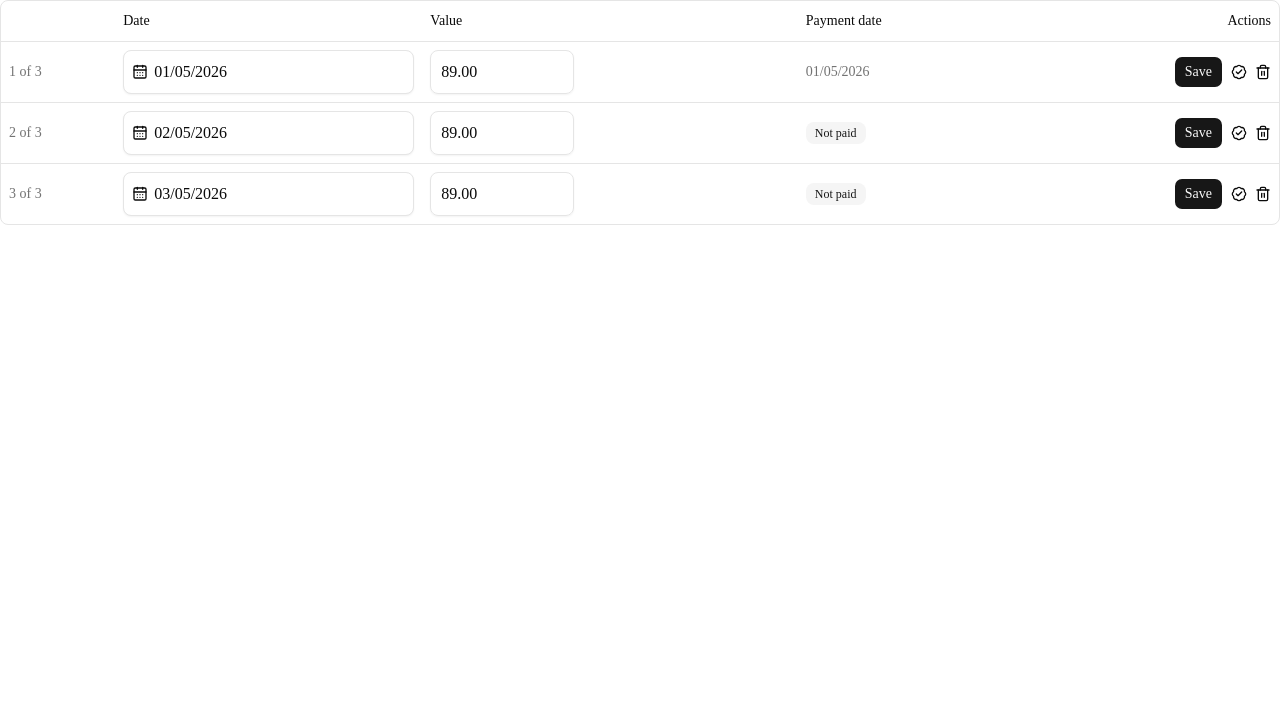
Scenario: InstallmentOccurrencesTable › flags a row dated before the one above it and blocks every save
Click the button named "Payment 2 date": coordinates (191, 132) [123,110,414,154]
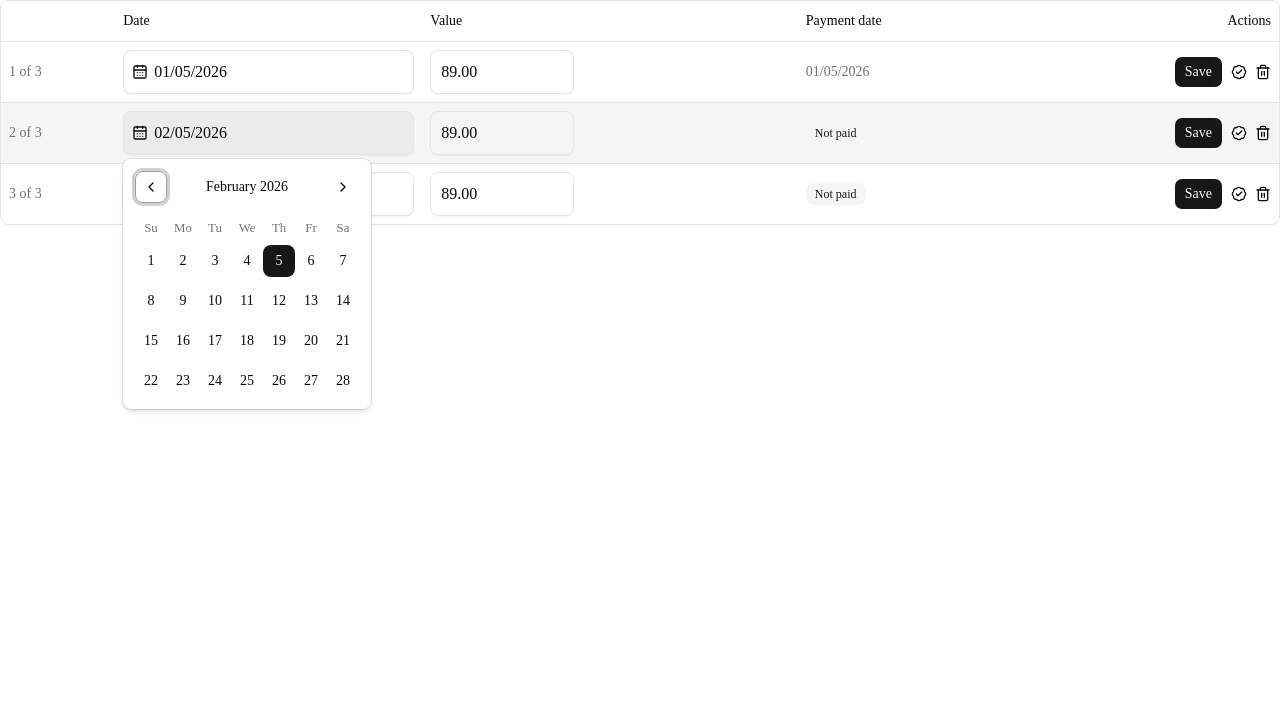
Click the button named "Go to the Previous Month": coordinates (151, 187) [135,171,167,203]
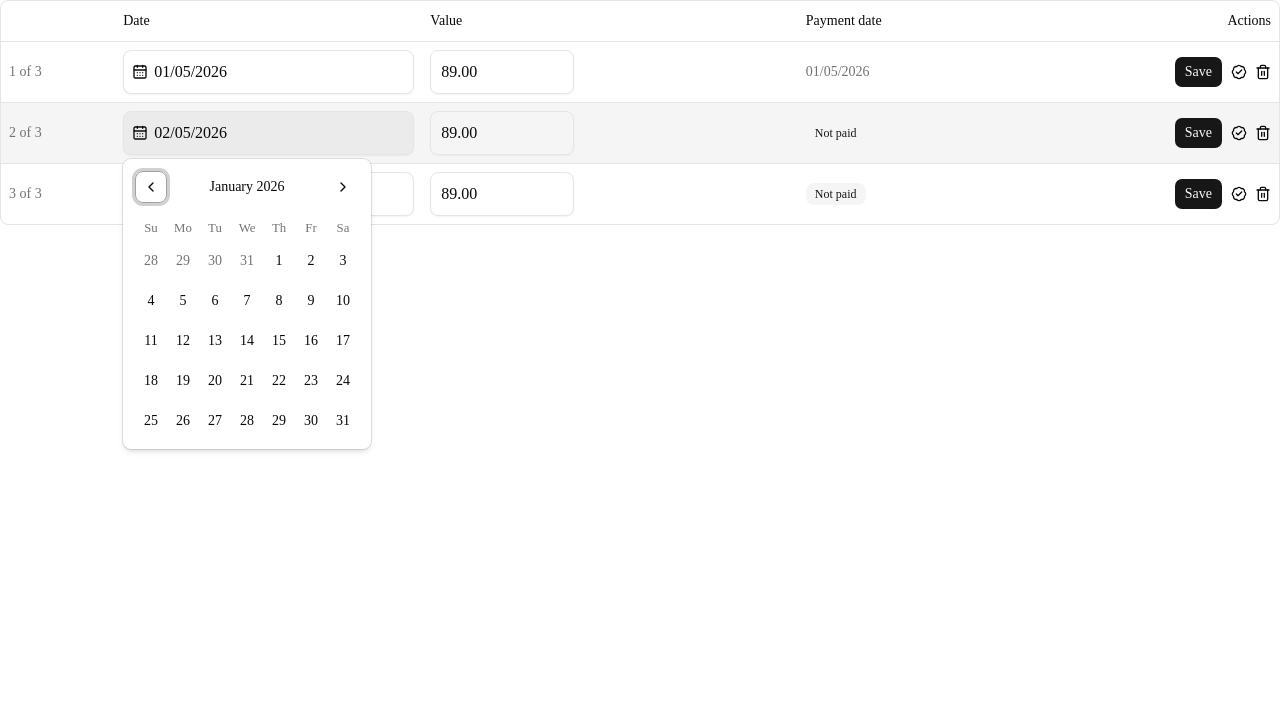
Click the button named "Go to the Previous Month": coordinates (151, 187) [135,171,167,203]
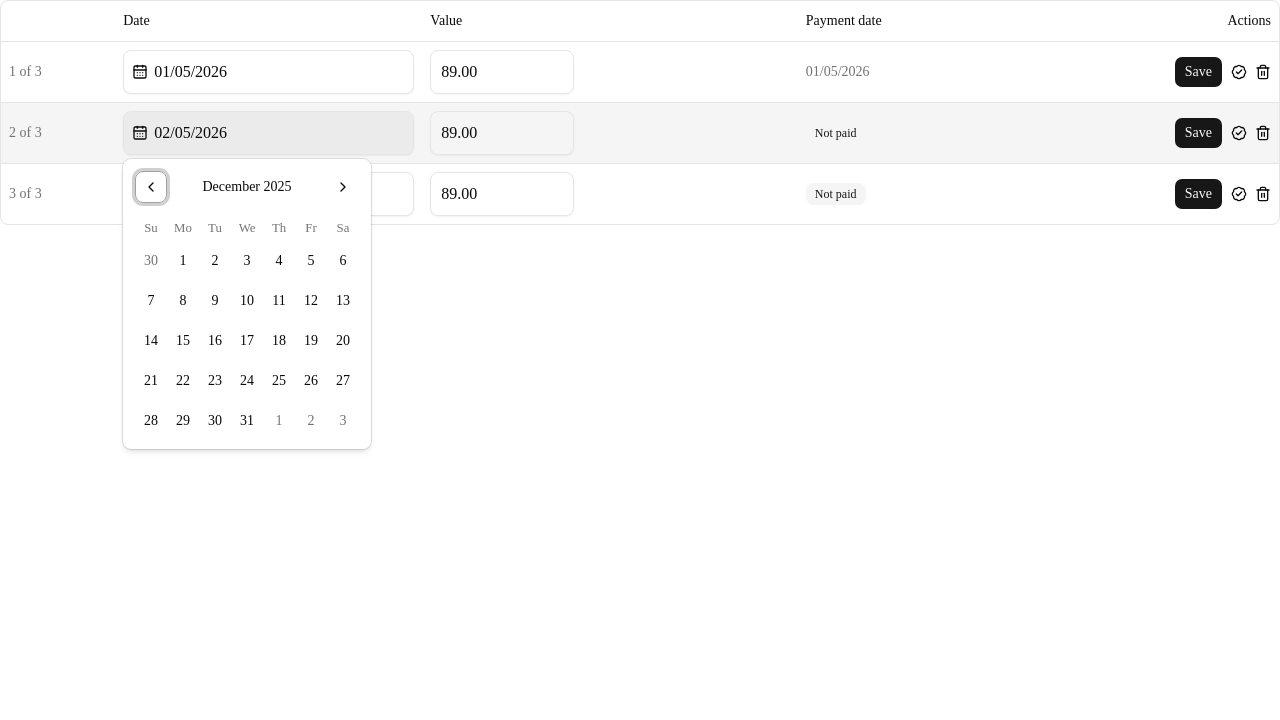
Click the 1st button "1": coordinates (183, 261) [167,245,199,277]
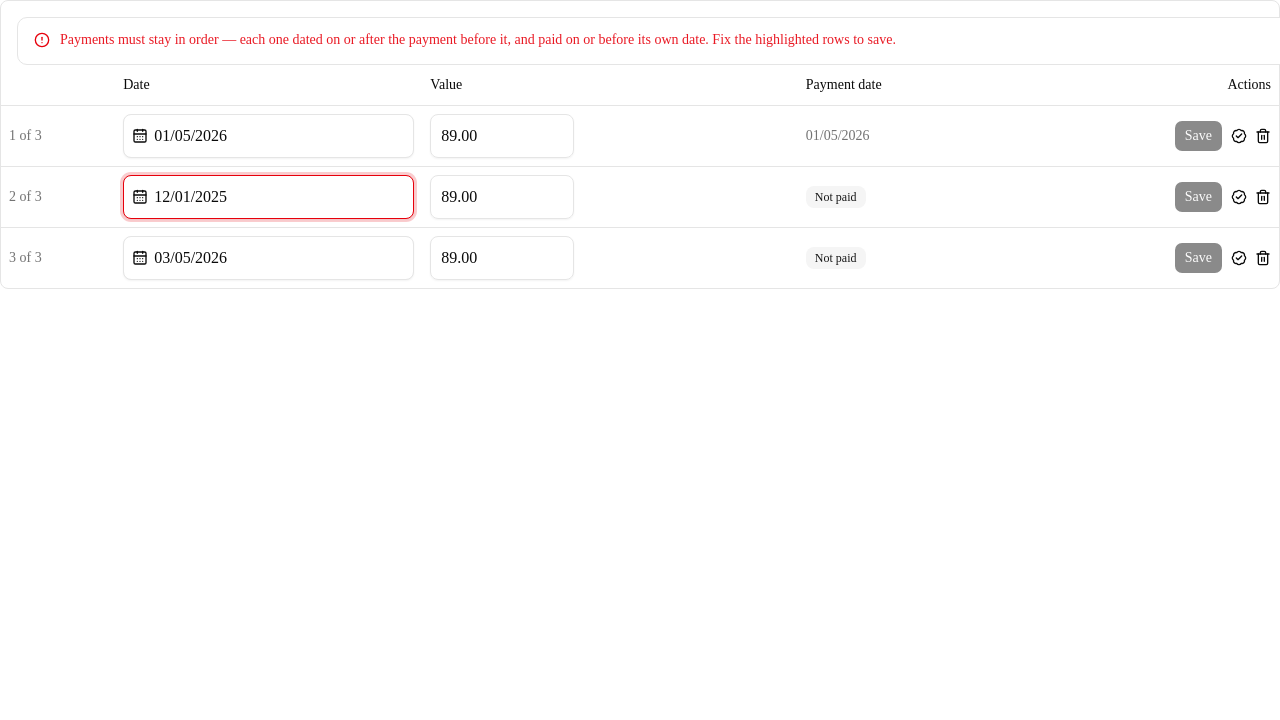
Check: the text "Payments must stay in order" is shown, box [60,32,896,47]
Check: the button "Save" in the row of "1 of 3" is disabled, box [1174,120,1223,152]
Check: the button "Save" in the row of "2 of 3" is disabled, box [1174,180,1223,212]
